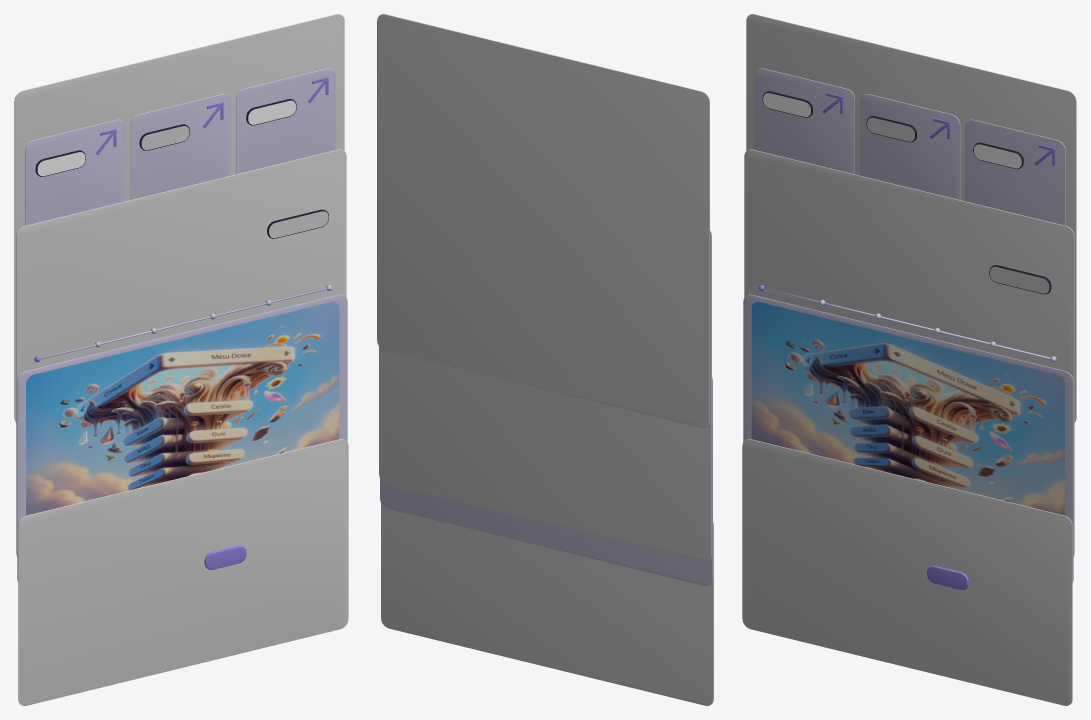
File: DNA_page.glb
3 views of the same model, side by side, from view 1: azimuth 30°, elevation 25°; view 2: azimuth 150°, elevation 25°; view 3: azimuth 330°, elevation 25° (orthographic).
Visible parts, largest first — view 1: plane_bottom, image, plane_middle, plane_top, box_middle, box_right, box_left, button_border, button_border.002, button_border.003, button_border.001, button_purple (+1 smaller); view 2: plane_top, plane_middle, plane_bottom, image; view 3: plane_bottom, image, plane_middle, plane_top, box_left, box_middle, box_right, button_border, button_border.002, button_border.003, button_border.001, button_purple (+1 smaller).
Boxes of the visible parts, x1,y1,x2,y2 form: plane_bottom: (18, 439, 348, 705); image: (17, 294, 347, 581); plane_middle: (16, 149, 346, 556); plane_top: (14, 14, 344, 422); box_middle: (130, 94, 230, 199); box_right: (25, 119, 125, 225); box_left: (236, 68, 335, 174); button_border: (267, 209, 328, 238); button_border.002: (246, 99, 296, 125); button_border.003: (35, 150, 85, 176); button_border.001: (139, 124, 189, 150); button_purple: (204, 545, 246, 569); plane_top: (377, 14, 709, 427); plane_middle: (379, 230, 711, 561); plane_bottom: (381, 503, 713, 705); image: (380, 377, 712, 586); plane_bottom: (742, 439, 1072, 705); image: (743, 294, 1073, 581); plane_middle: (744, 149, 1074, 556); plane_top: (746, 14, 1076, 422); box_left: (965, 119, 1065, 225); box_middle: (860, 94, 960, 199); box_right: (755, 68, 854, 174); button_border: (989, 265, 1051, 294); button_border.002: (973, 142, 1023, 169); button_border.003: (762, 91, 812, 117); button_border.001: (866, 116, 916, 142); button_purple: (927, 565, 968, 589).
Size of the model in its own units: 4 by 7.09 by 0.12.
Materials: 15 (1 with a texture image).
